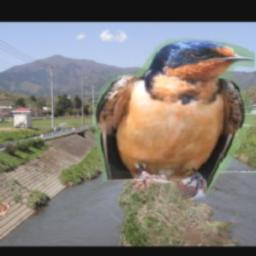Sparrow: (0, 201, 12, 218)
Swallow: (94, 38, 256, 199)
